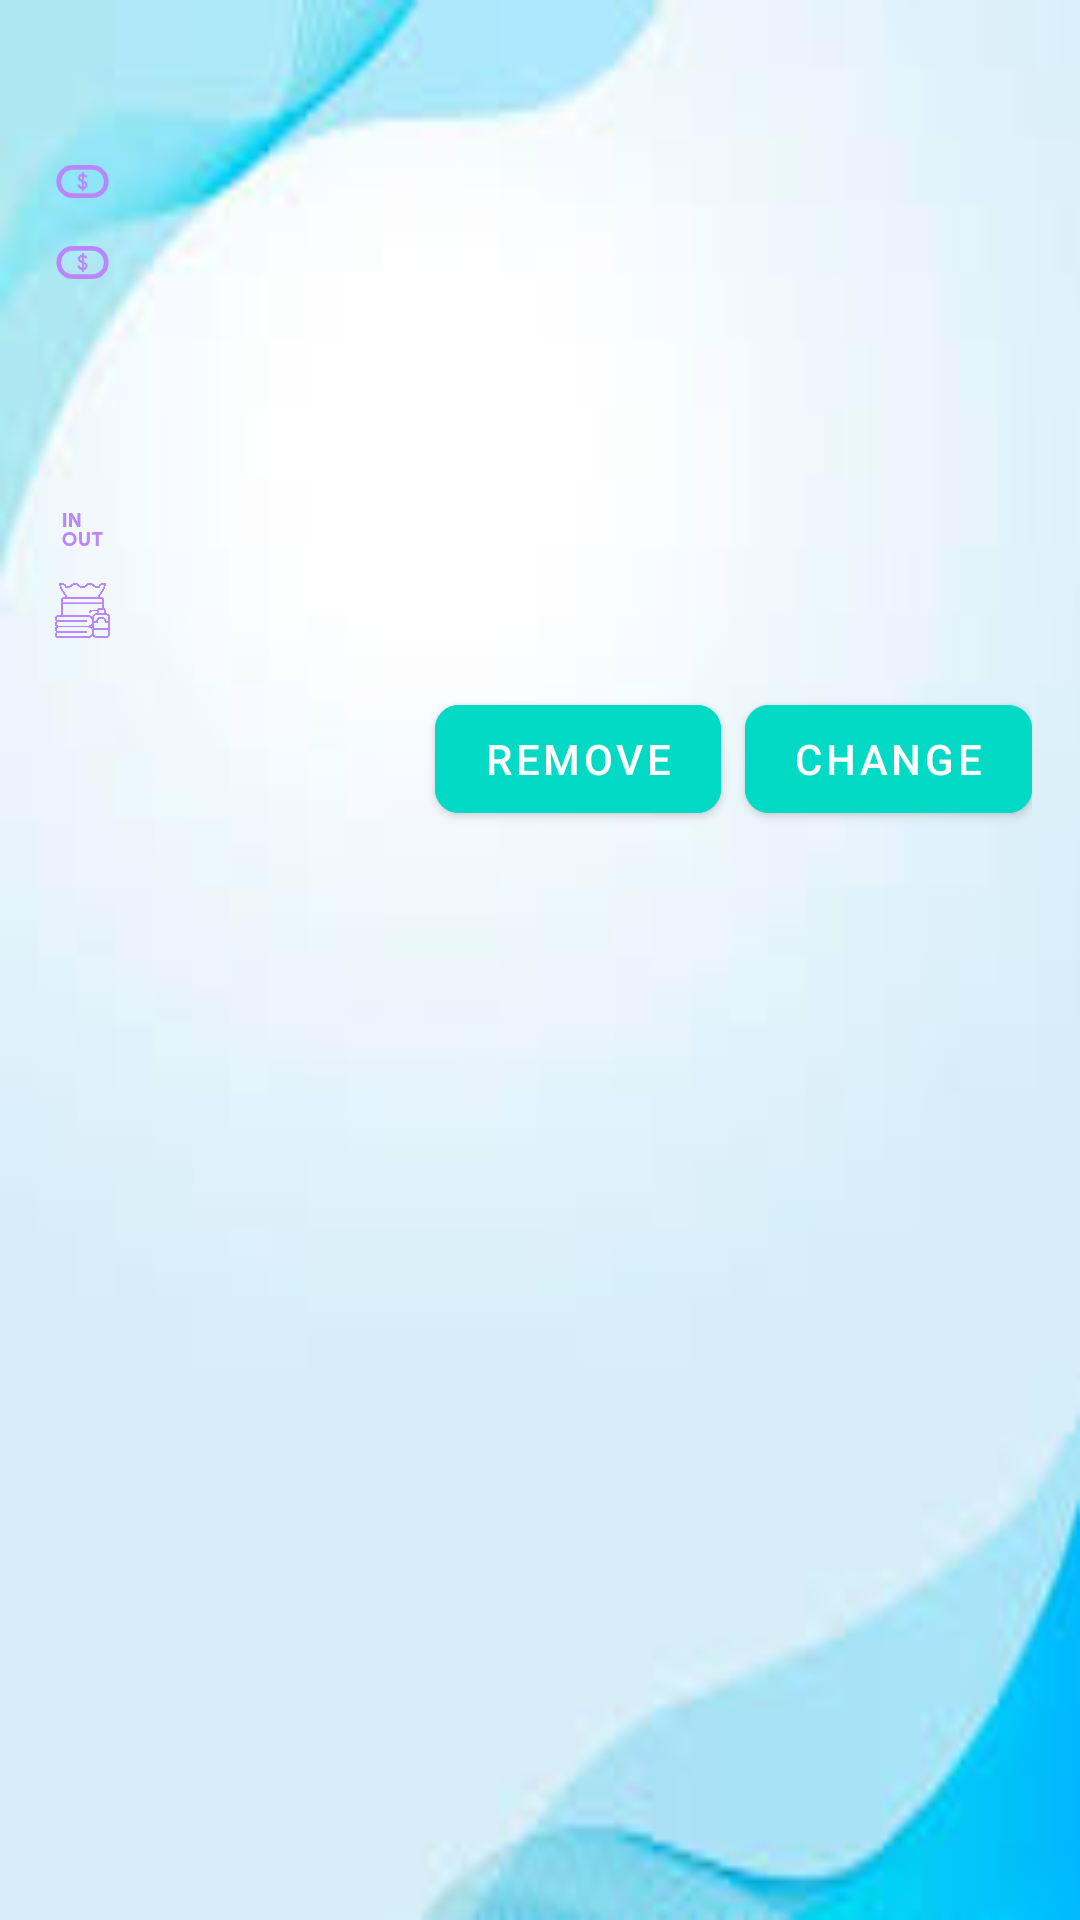

Locate icon controls on the screen. Image size 1080 x 1920, boxes as rect(x1, y1, x2, y2).
Price Per Night: rect(56, 165, 109, 198)
